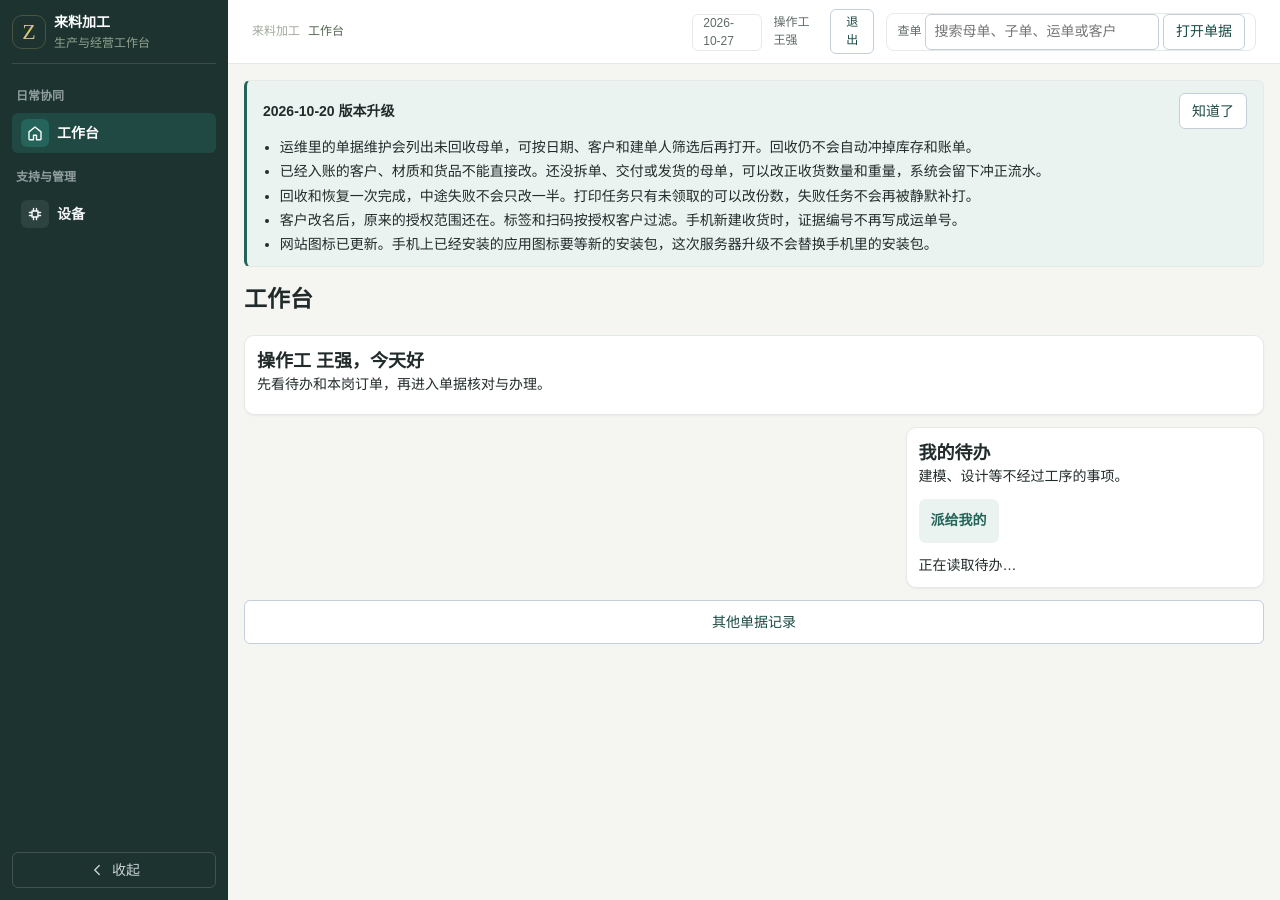
Test case: App › 页面文件加载失败时保留导航并提供中文重试入口
The width and height of the screenshot is (1280, 900).
Click the button with class "nav-button" showing "设备" at (114,214), box [12,194,216,234]
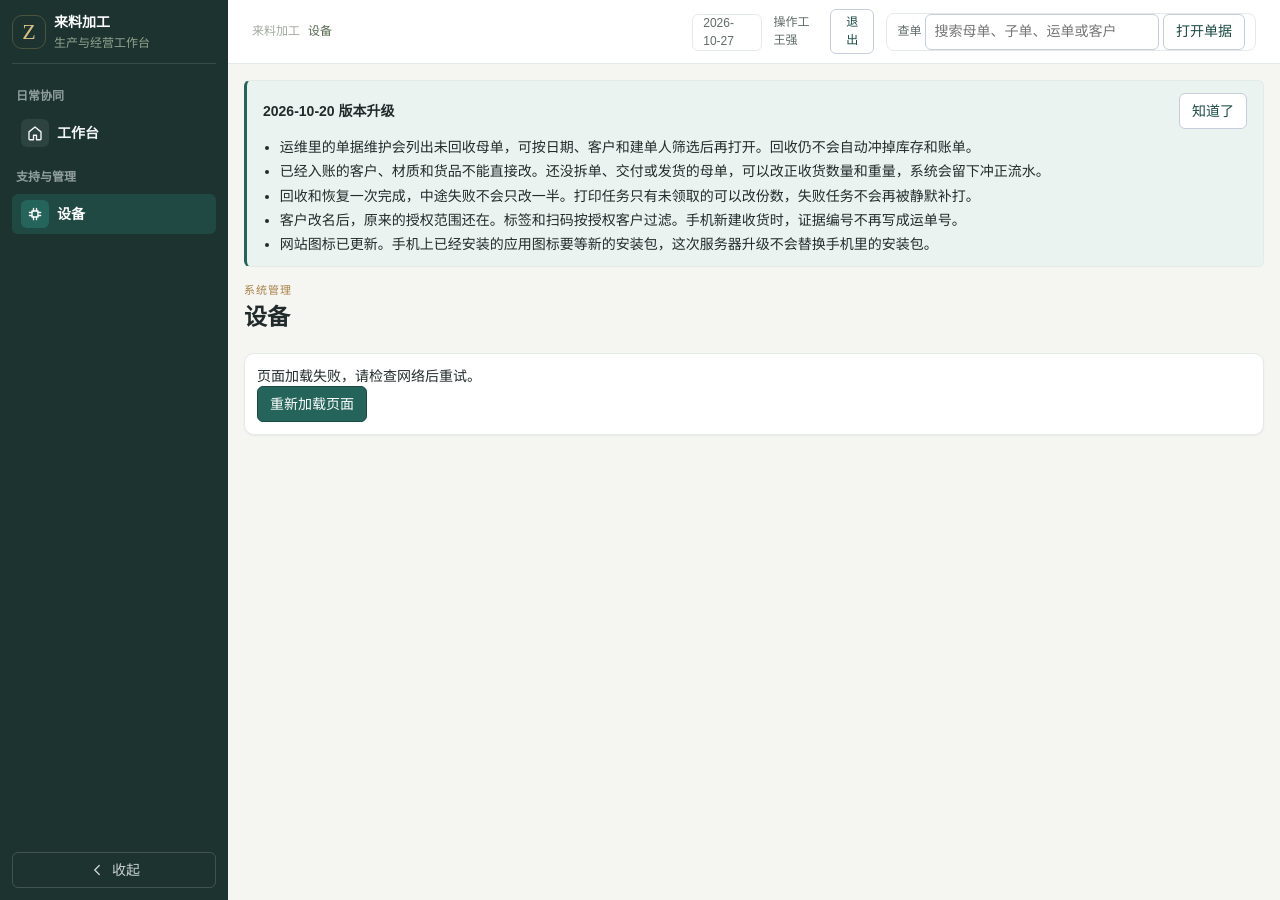
Expected: the text "页面加载失败，请检查网络后重试。" is shown, [257,368,481,384]
Expected: the message "页面加载失败，请检查网络后重试。 重新加载页面" is shown, [244,353,1264,435]
Click the button with class "nav-button" showing "工作台" at (114,133), box [12,113,216,153]
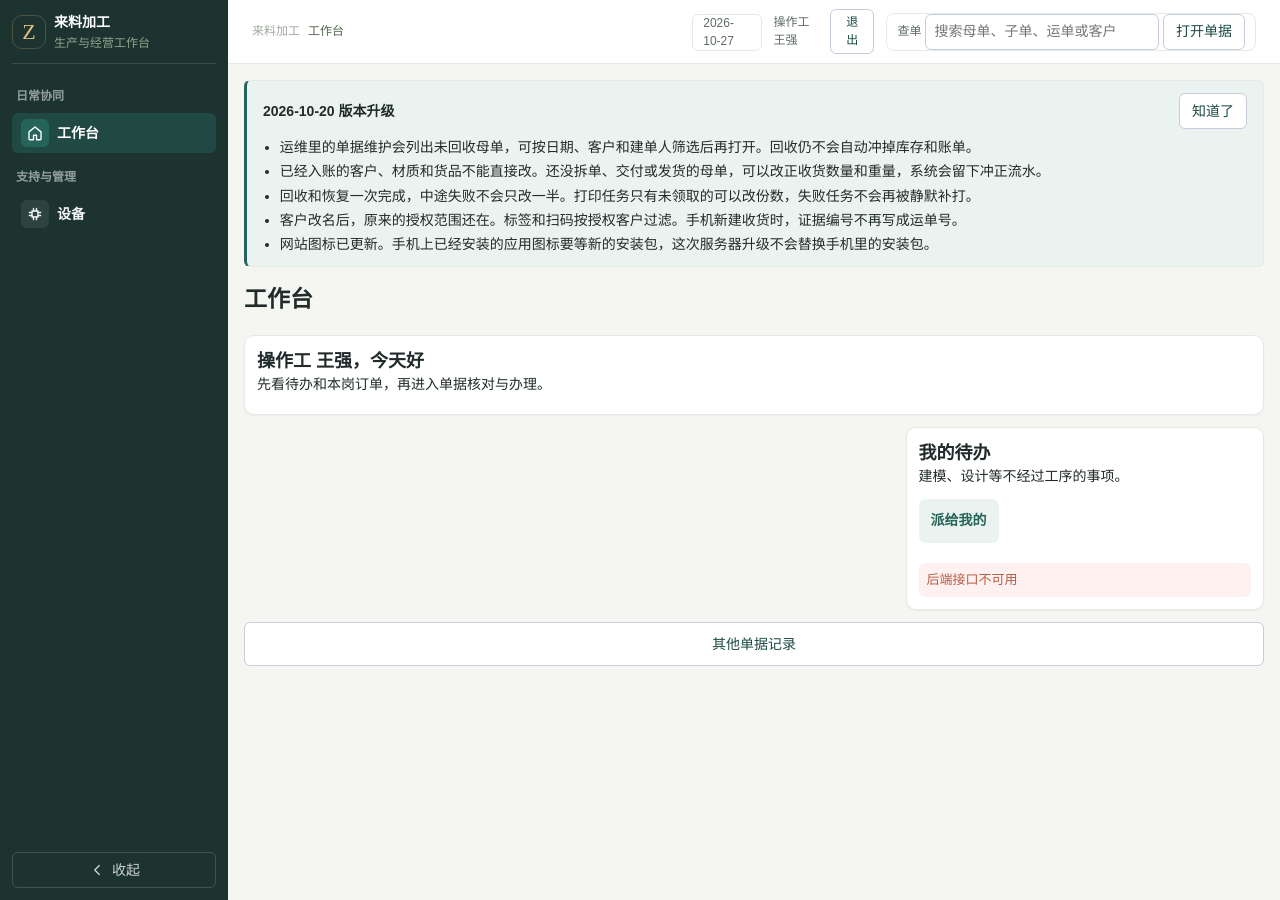
Expected: the text "今天好" is shown, [257,351,424,371]
